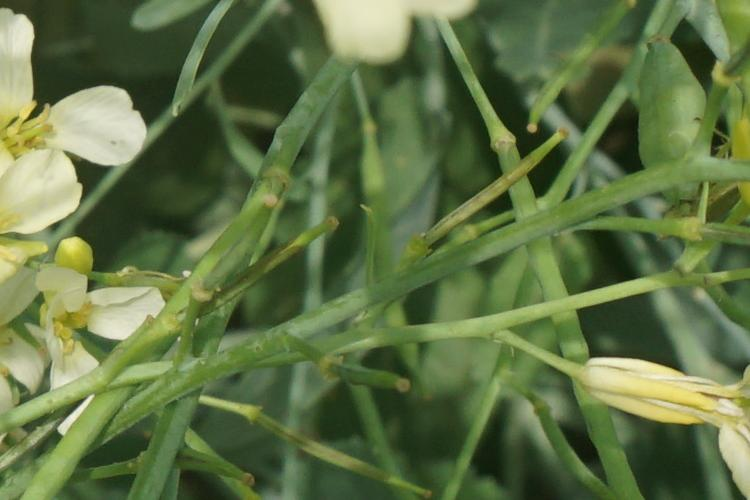bud: (55, 234, 113, 284)
pod: (211, 400, 475, 496), (413, 104, 590, 229), (204, 214, 349, 283), (532, 391, 625, 486), (174, 178, 280, 261), (288, 343, 418, 407), (512, 49, 591, 142), (146, 436, 255, 485)
white: (7, 46, 144, 239), (15, 291, 168, 410)
